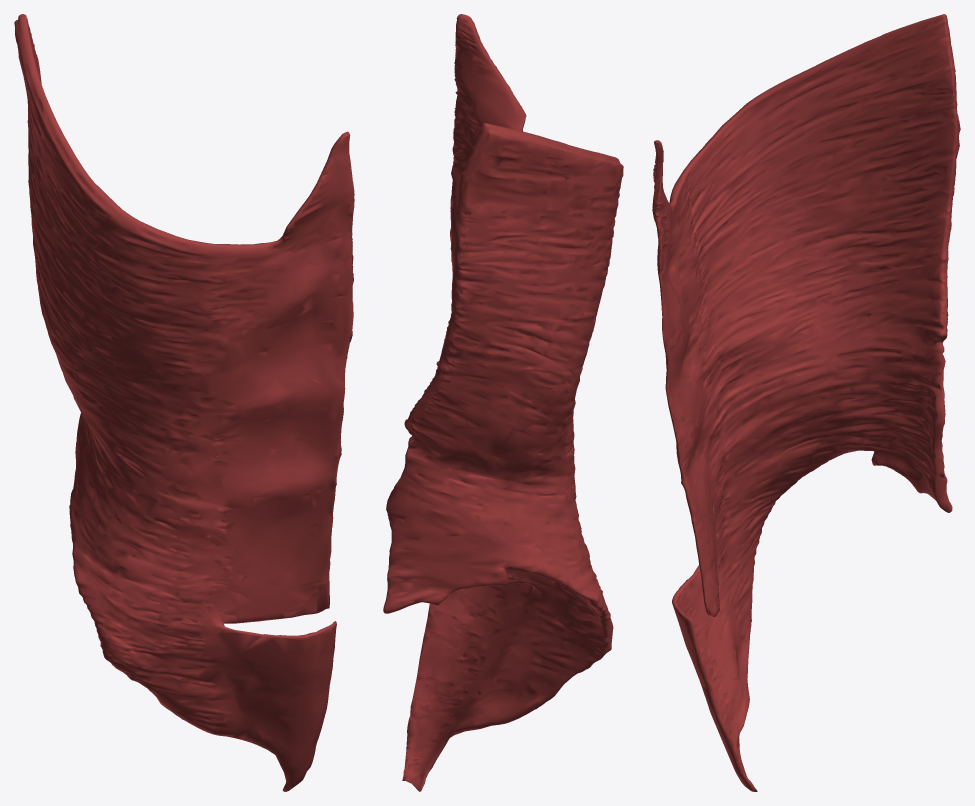
File: transversus-abdominis-muscle-r.glb
3 renders of one model, left to right at view 1: azimuth 30°, elevation 25°; view 2: azimuth 150°, elevation 25°; view 3: azimuth 270°, elevation 25°, orthographic. The views are drawn at different scales.
Visible parts, largest first — view 1: Transversus abdominis muscle.r; view 2: Transversus abdominis muscle.r; view 3: Transversus abdominis muscle.r.
Part boxes in pixels (x1=…): Transversus abdominis muscle.r: x1=14, y1=14, x2=354, y2=791; Transversus abdominis muscle.r: x1=383, y1=14, x2=623, y2=791; Transversus abdominis muscle.r: x1=652, y1=14, x2=960, y2=791.
Size of the model in its own units: 0.1295 by 0.4211 by 0.1674.
